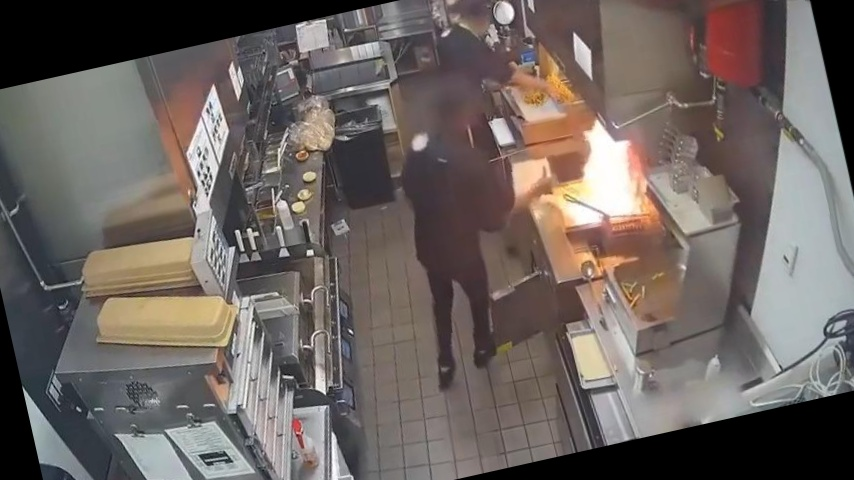fire: (534, 99, 662, 244)
